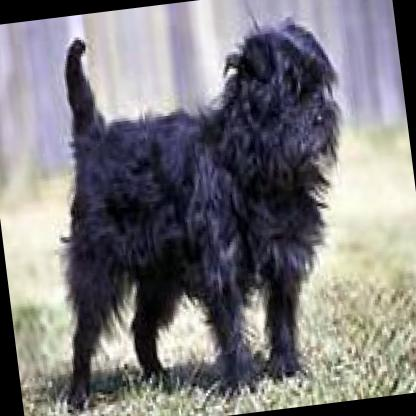affenpinscher: (17, 0, 375, 413)
